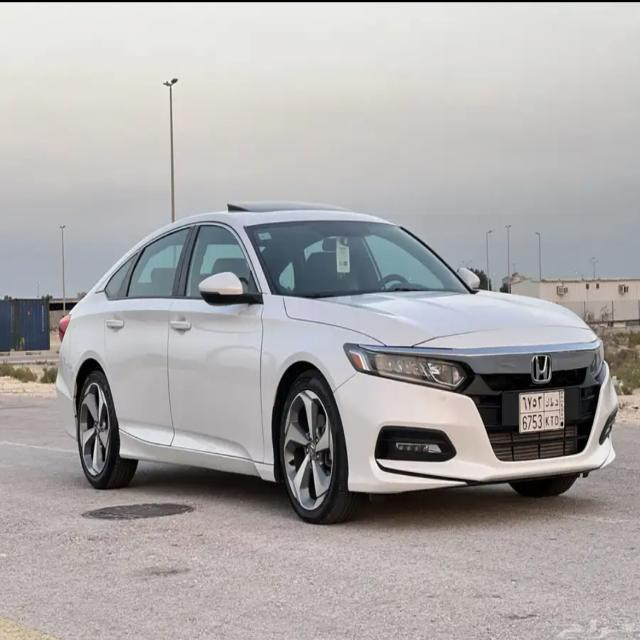license_plate: (518, 393, 572, 435)
